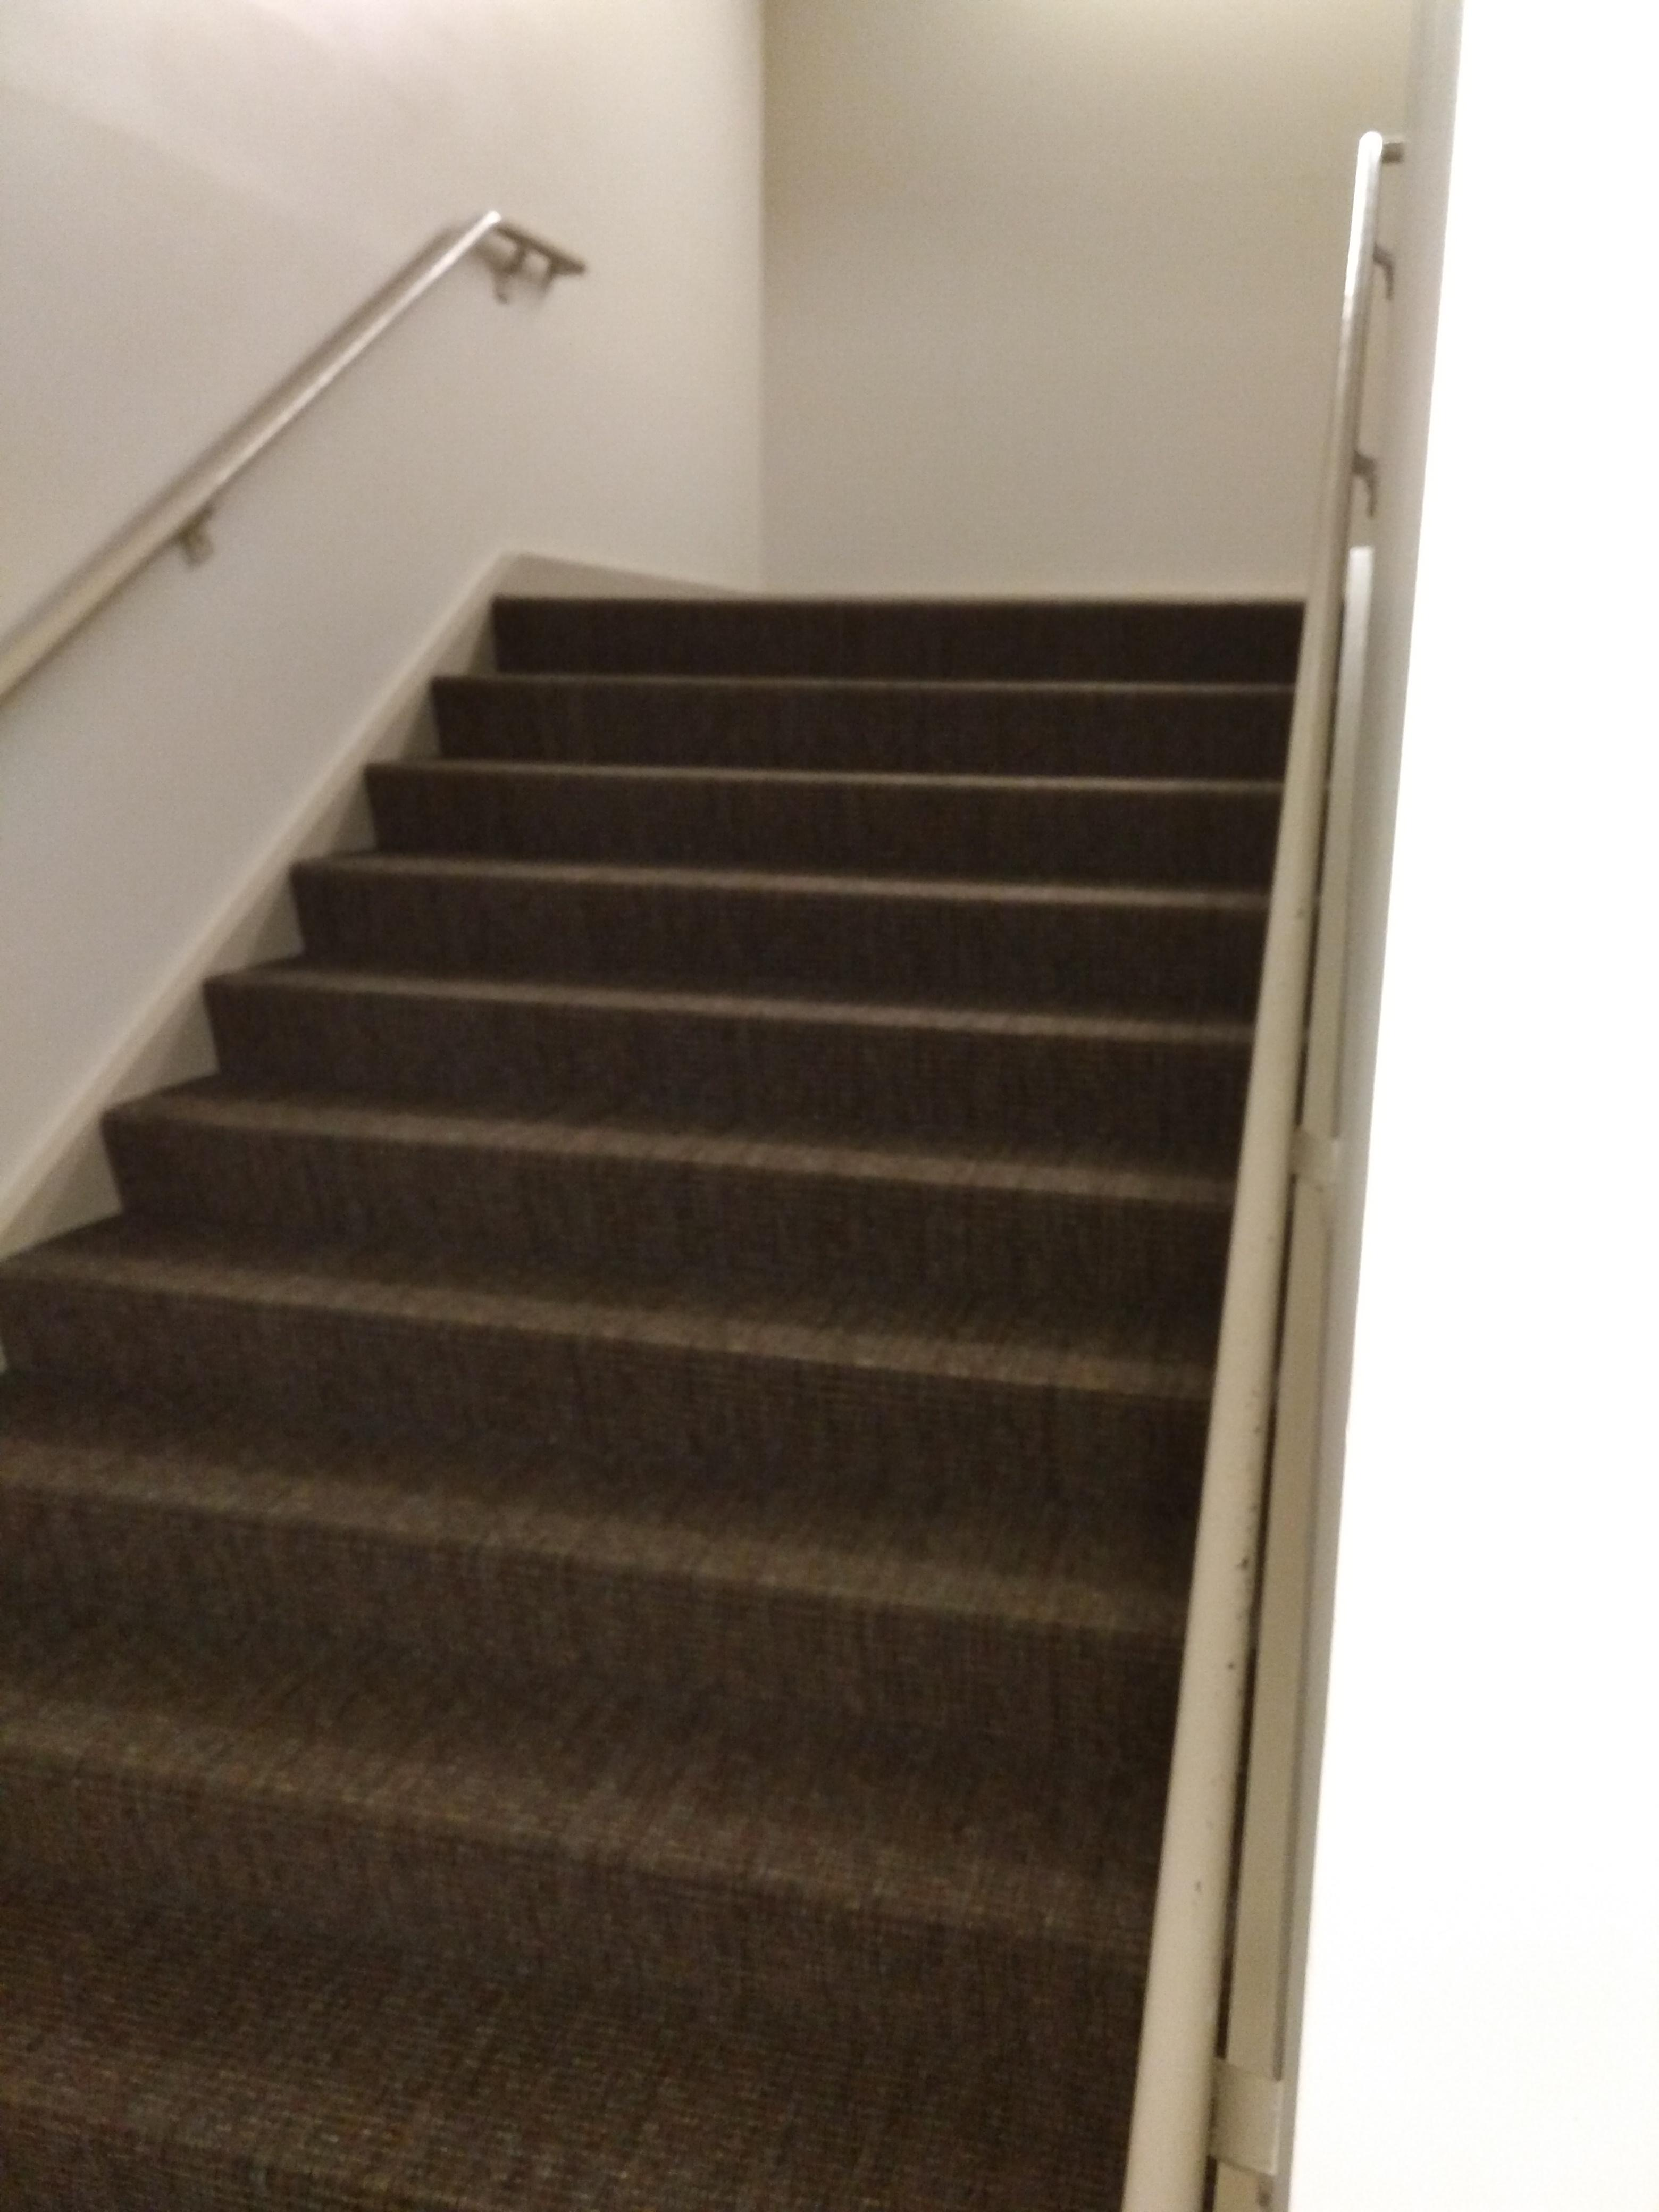stairs_up: (0, 552, 1337, 2193)
